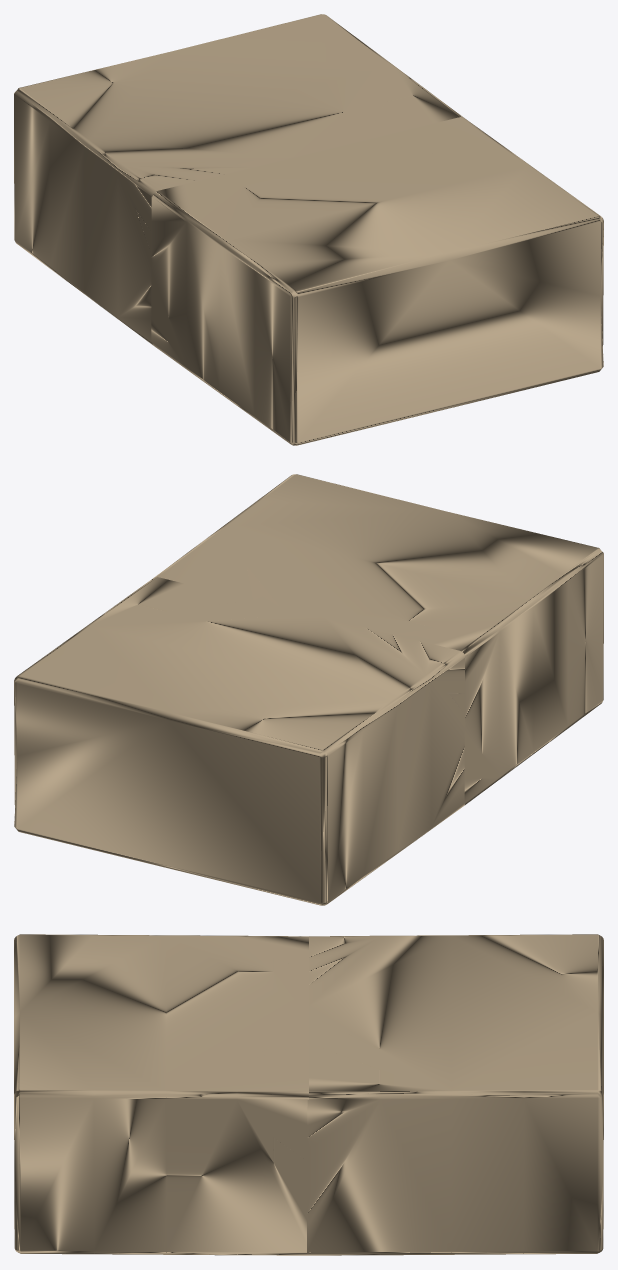
3 views of the same model, one above another, from view 1: azimuth 30°, elevation 25°; view 2: azimuth 150°, elevation 25°; view 3: azimuth 270°, elevation 25° (orthographic). The views are drawn at different scales.
Parts seen in each view (by area): view 1: base_mesh12.002_mesh12-geometry; view 2: base_mesh12.002_mesh12-geometry; view 3: base_mesh12.002_mesh12-geometry.
Boxes of the visible parts, bbox=[...] form: base_mesh12.002_mesh12-geometry: bbox=[14, 14, 603, 445]; base_mesh12.002_mesh12-geometry: bbox=[14, 474, 603, 905]; base_mesh12.002_mesh12-geometry: bbox=[14, 934, 603, 1255].
Size of the model in its own units: 0.2758 by 0.1326 by 0.4287.
